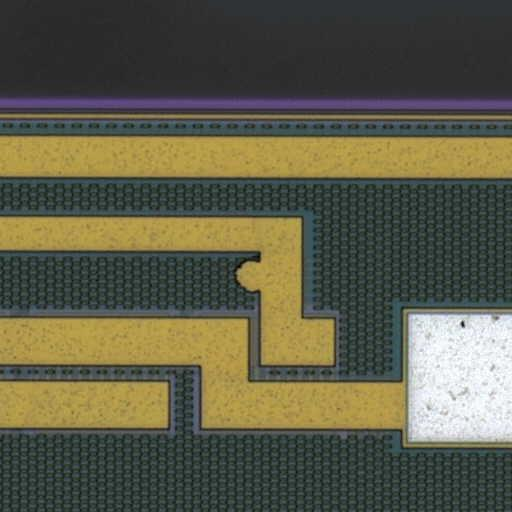BLOCK ETCH: (229, 255, 273, 299)
